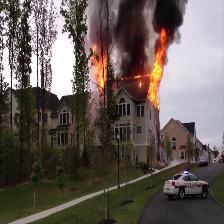fire: (144, 31, 168, 105), (93, 48, 110, 92)
smoke: (114, 3, 140, 69), (154, 1, 179, 27)
